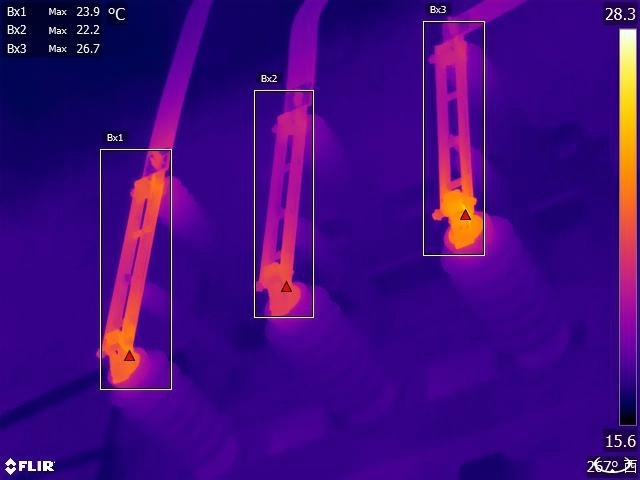post insulator: (440, 190, 576, 372), (252, 283, 401, 422), (100, 335, 237, 473), (274, 99, 384, 217), (445, 39, 534, 151), (145, 168, 223, 265)
